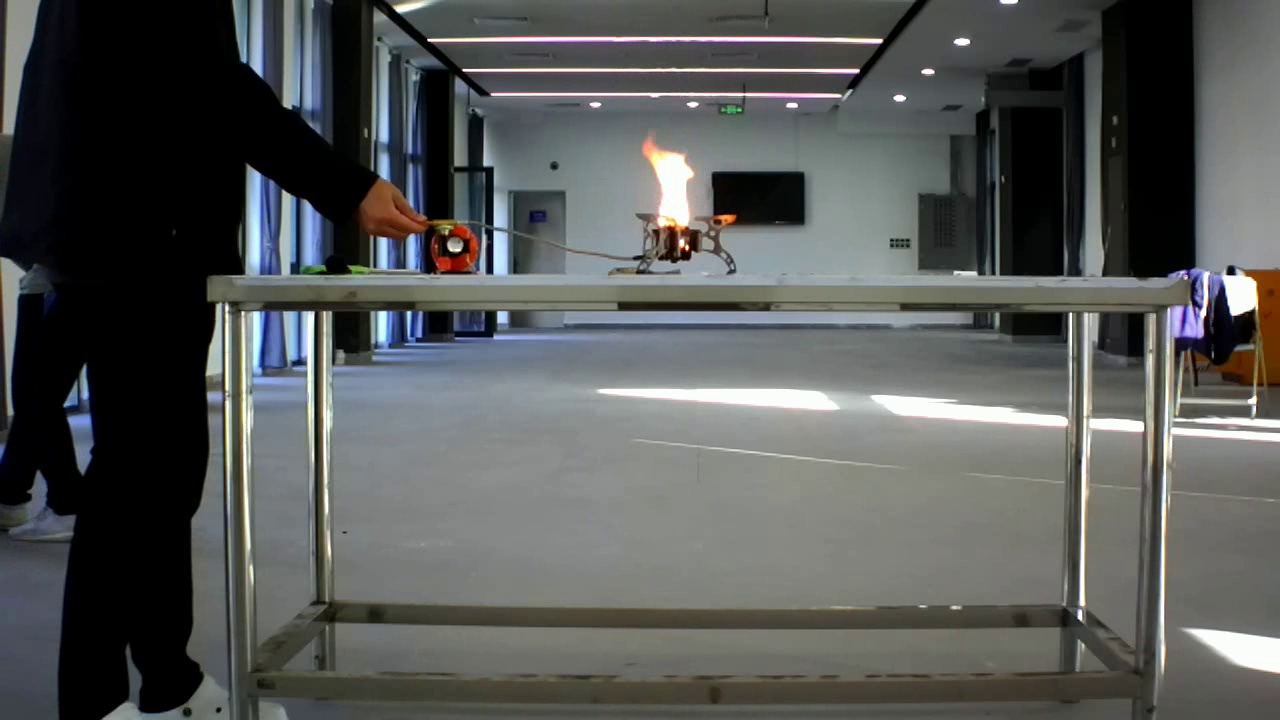Fire: (628, 130, 741, 262)
